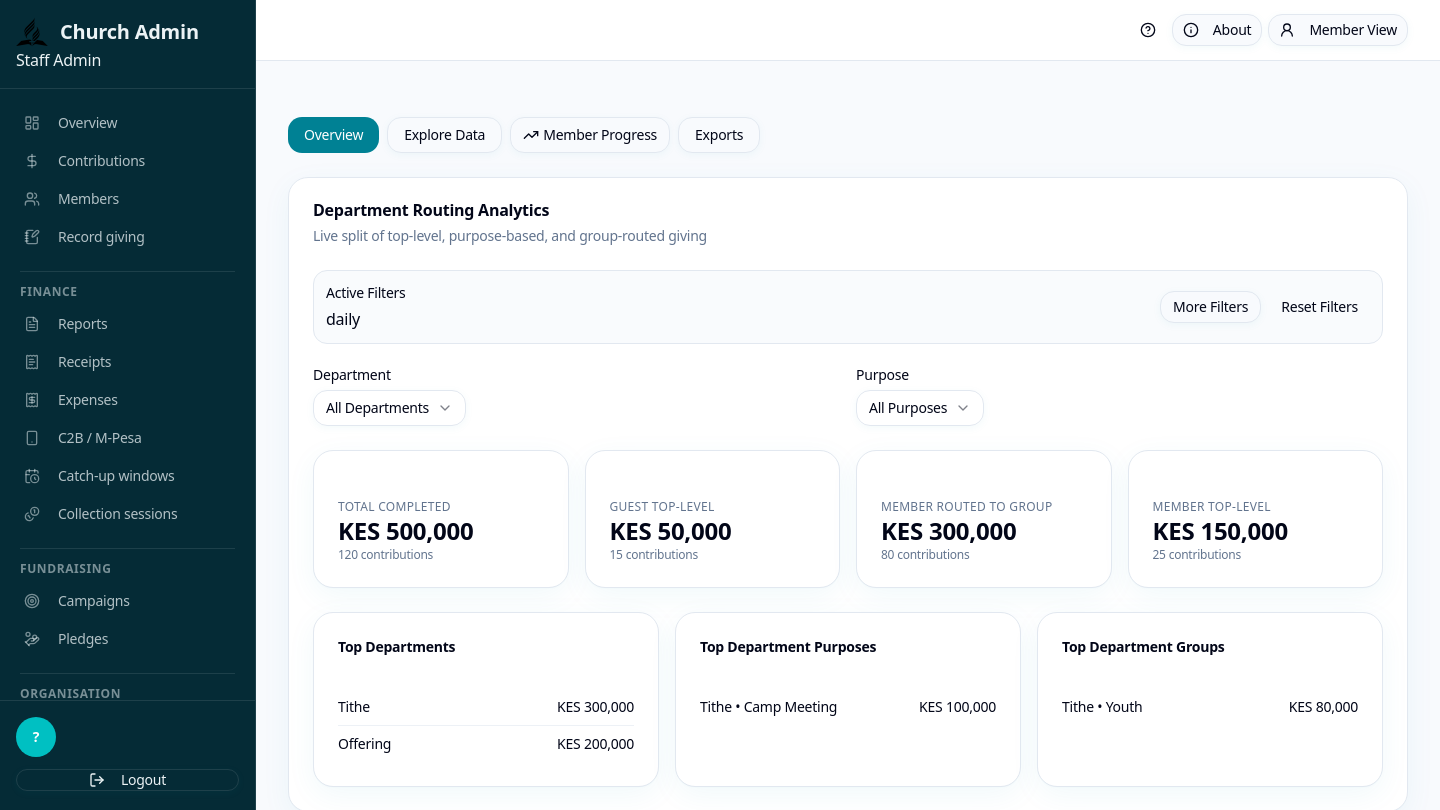
Test: ReportsPage › opens drill-down dialog when clicking a department row
What coordinates should you click on to do the following:
click the button "Explore Data"
I would click on:
 (445, 135)
Its box is [387,117,502,153].
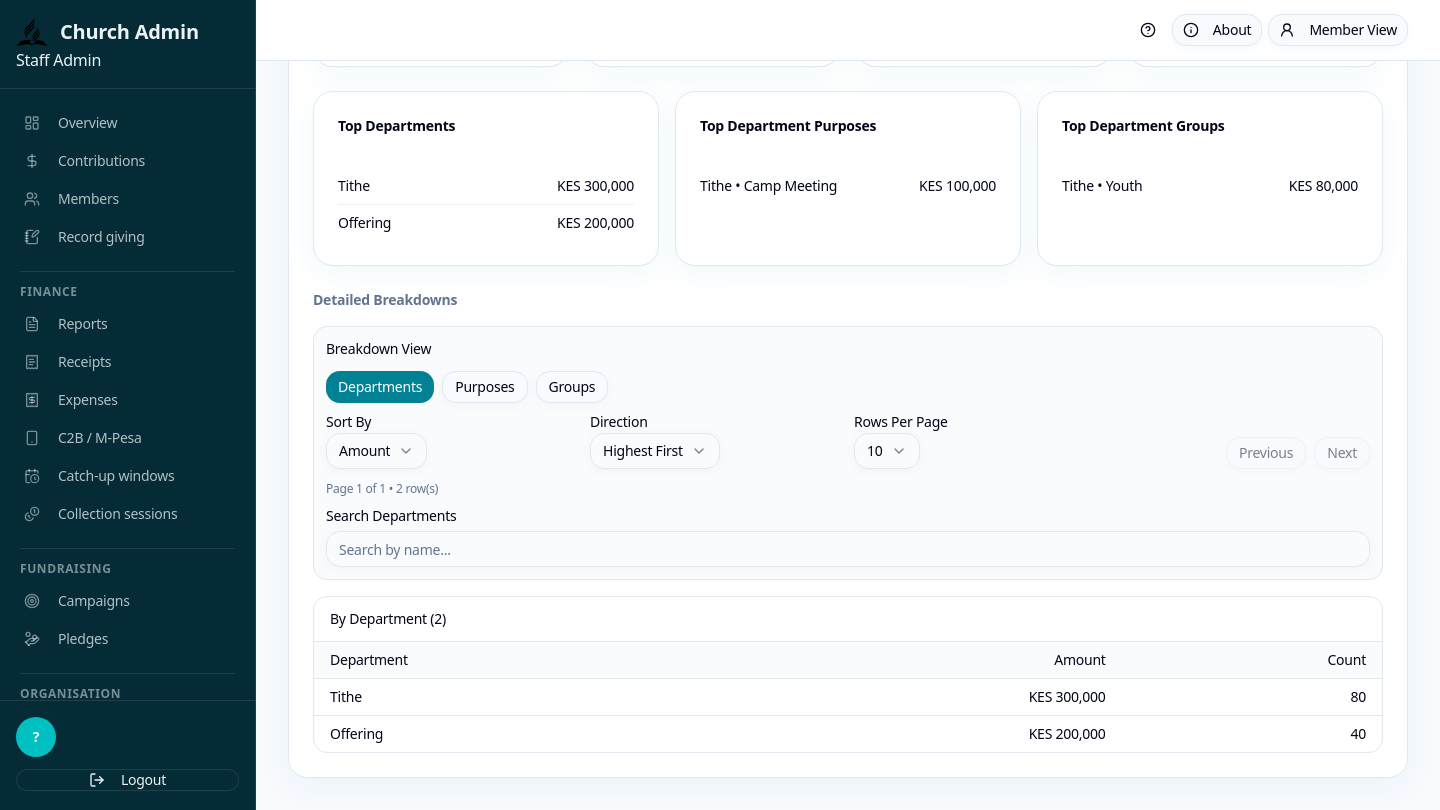
What coordinates should you click on to do the following:
click the row "Tithe KES 300,000 80"
I would click on:
 (848, 697)
Its box is [314,678,1382,716].
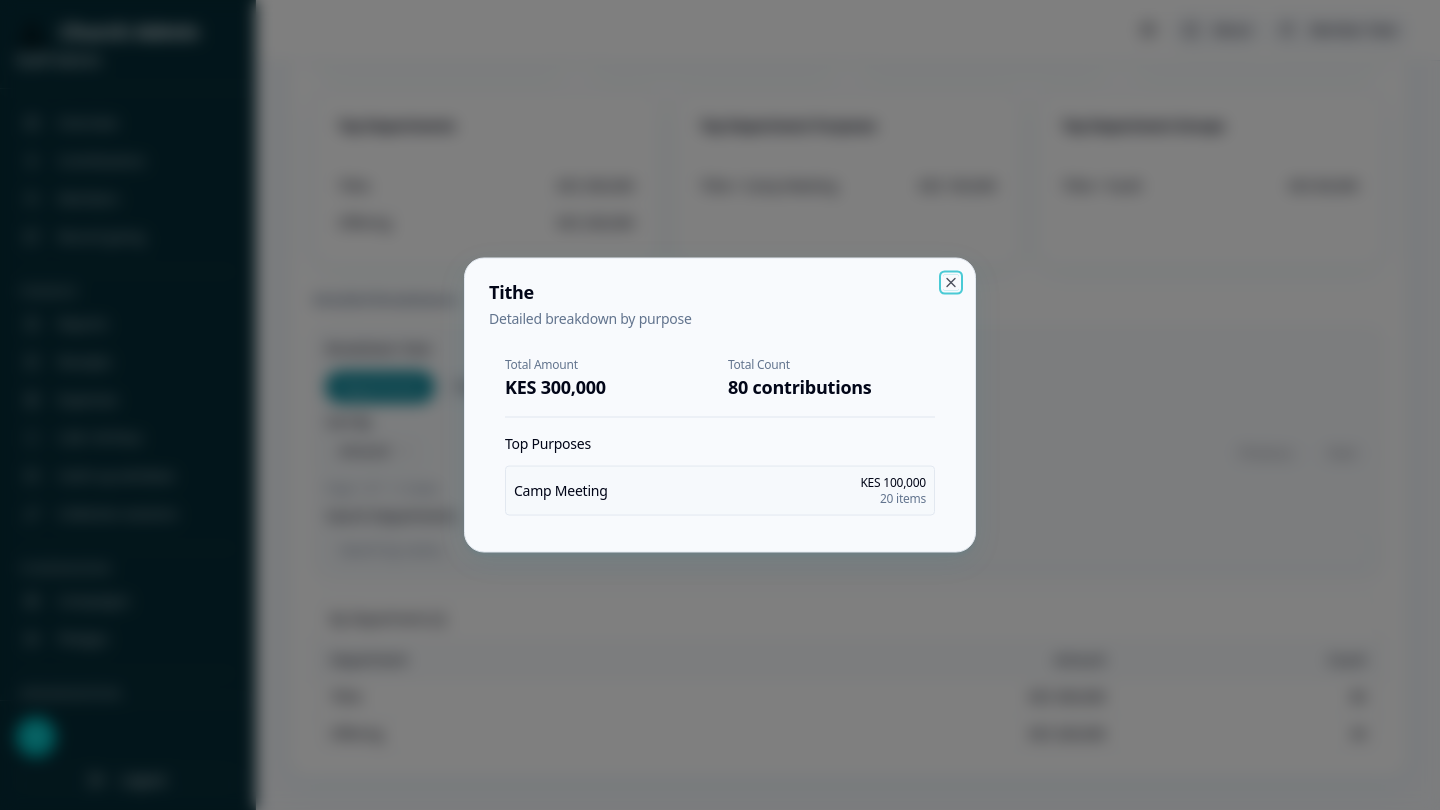
Check: the text "Detailed breakdown by purpose" is shown, box [489,308,692,328]
Check: the text "Top Purposes" is shown, box [505,434,591,452]
